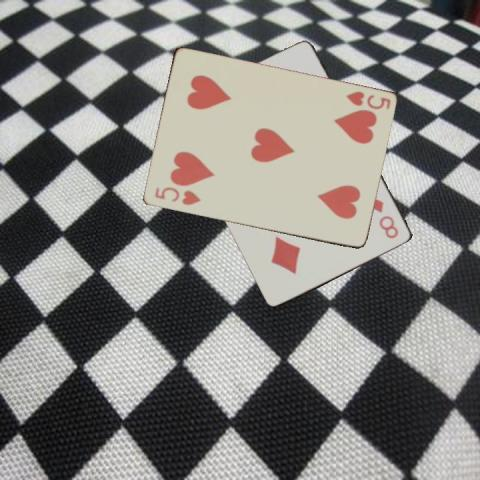5h: (151, 184, 202, 207), (342, 88, 392, 111)
8d: (369, 194, 401, 241)
